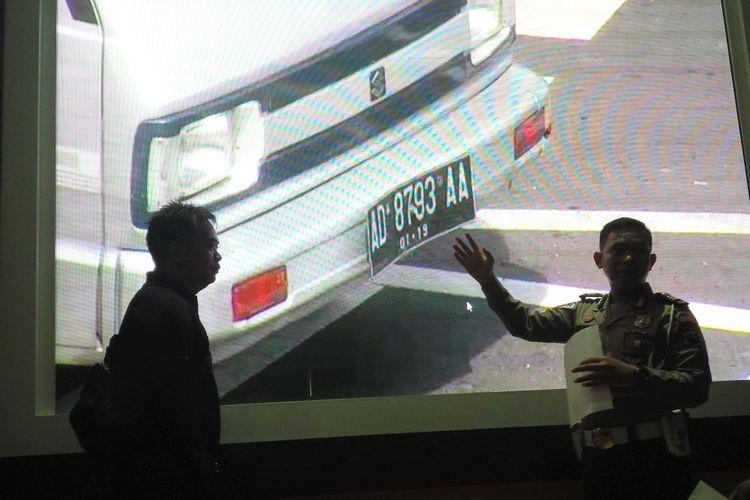plate: (360, 151, 477, 278)
